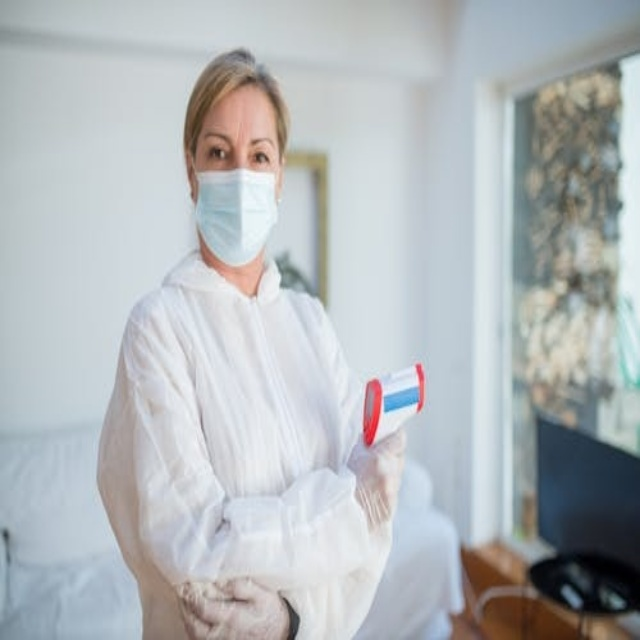Guantes: (178, 576, 293, 640), (349, 423, 411, 530)
Mascara: (193, 166, 279, 266)
Sin_gafas: (196, 119, 280, 172)
